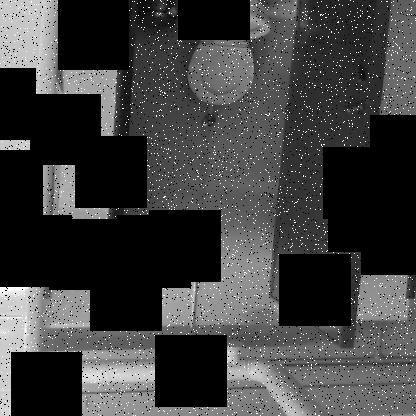Porte: (98, 1, 395, 351)
